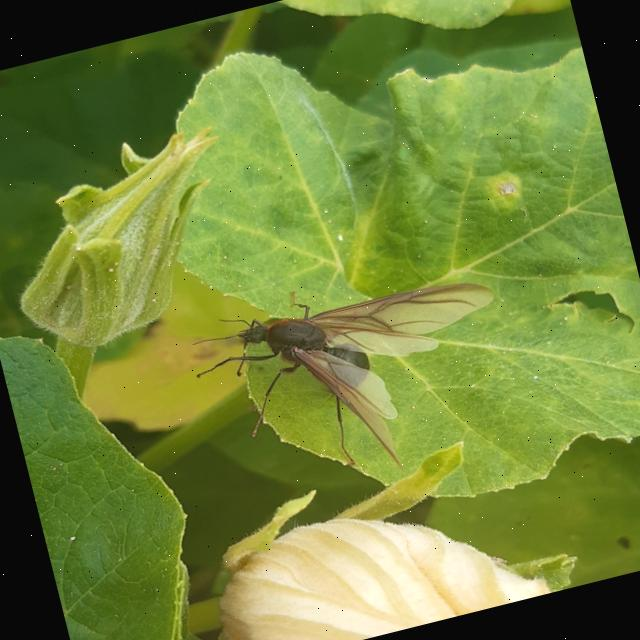Alive-Male-Alate: (181, 243, 531, 514)
